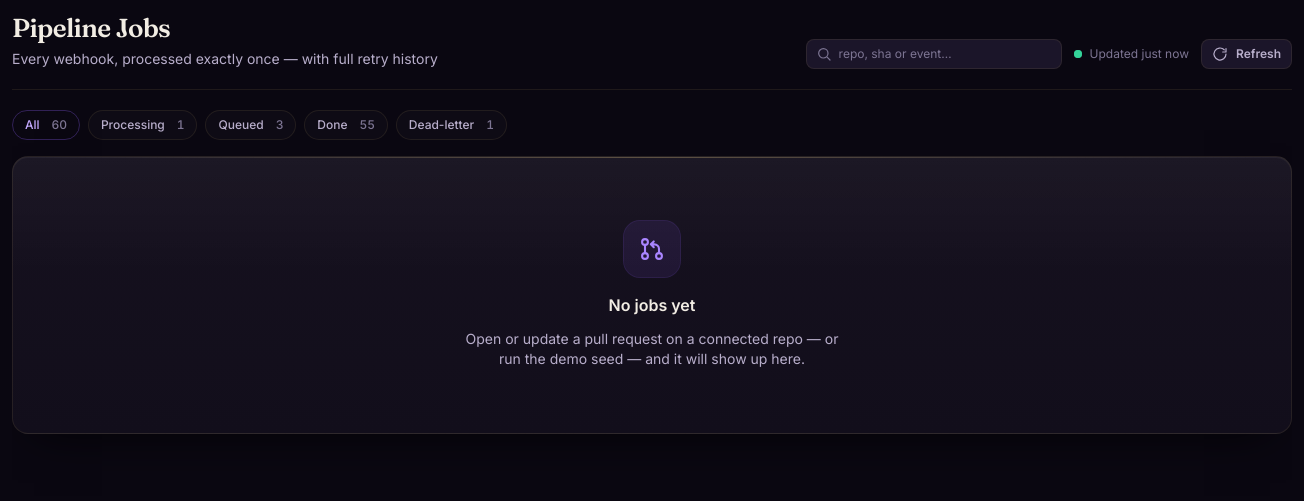
Test case: Jobs › shows an empty state with a clear-filters action when a search misses
The image size is (1304, 501).
Expected: the heading "No jobs yet" is shown, [608,292,695,316]
In the search field named "Search jobs": [934, 54] box [806,38,1062,68], type "zzz"
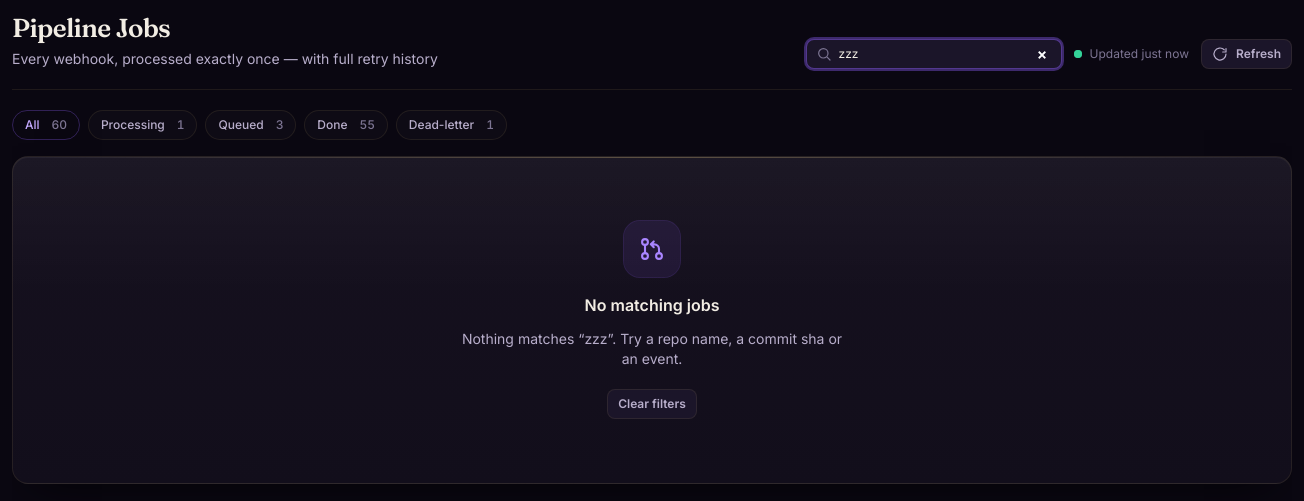
Expected: the heading "No matching jobs" is shown, [585,292,719,316]
Click the button "Clear filters": [652, 404] box [607,388,697,418]
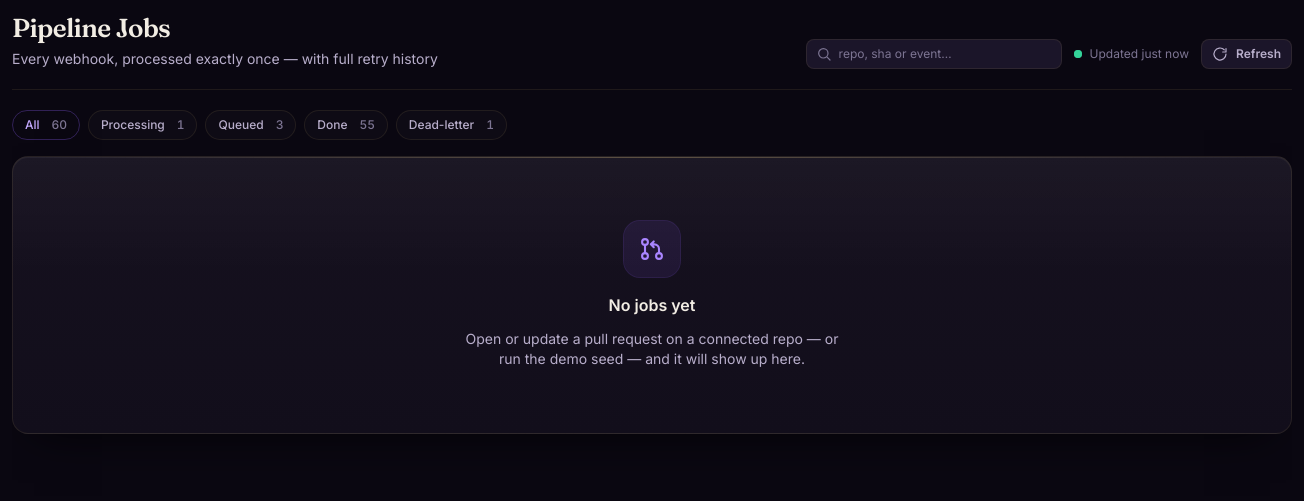
Expected: the heading "No jobs yet" is shown, [608,292,695,316]
